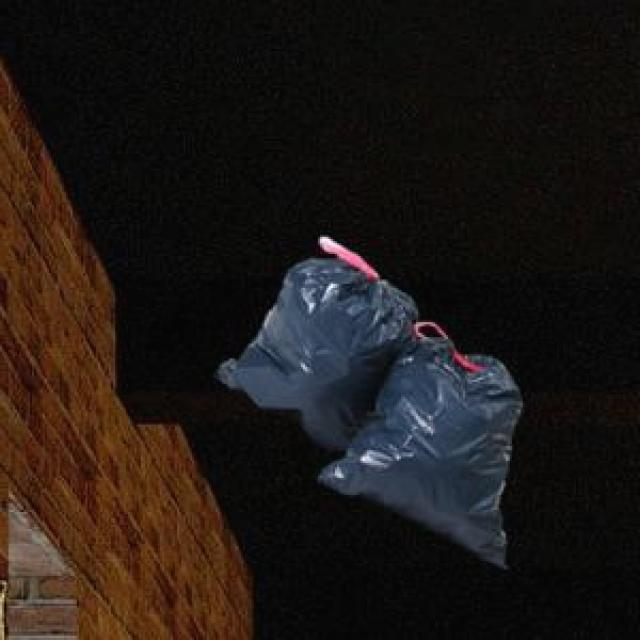Trashbag: (357, 348, 530, 569), (214, 252, 402, 443)
